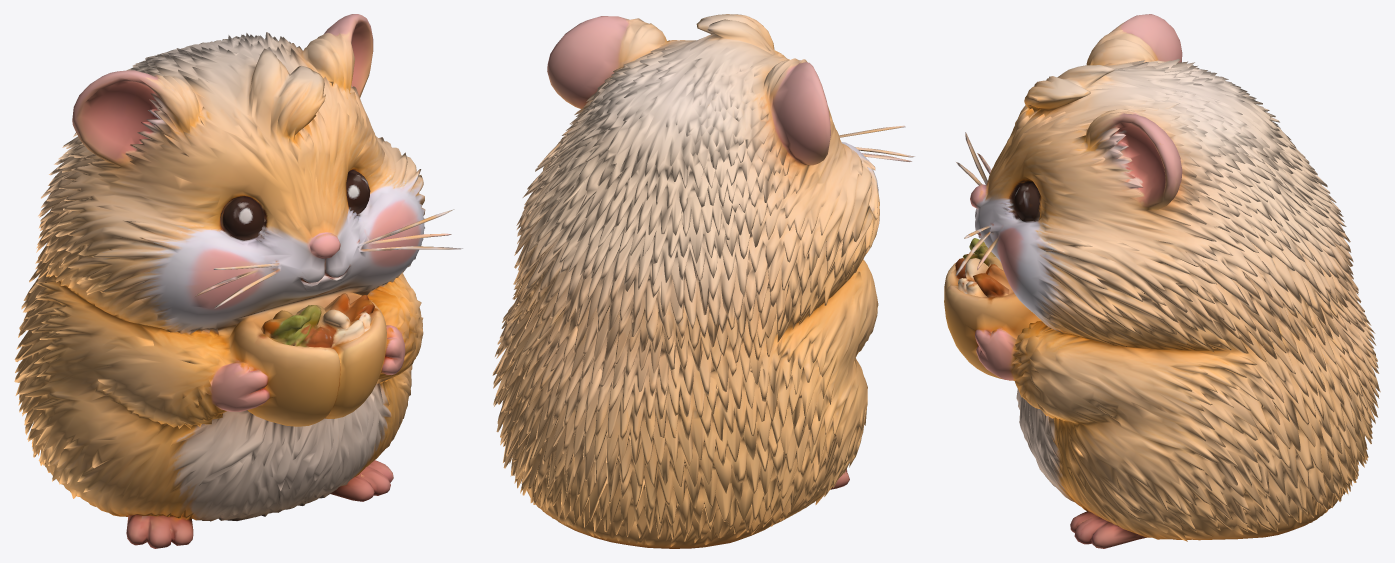
The model's file is mao_tuantuan_final.glb.
3 renders of one model, left to right at view 1: azimuth 30°, elevation 25°; view 2: azimuth 150°, elevation 25°; view 3: azimuth 270°, elevation 25°, orthographic. The views are drawn at different scales.
Parts seen in each view (by area): view 1: node_0; view 2: node_0; view 3: node_0.
Part boxes in pixels (x1,y1,x2,y2): node_0: [14, 14, 462, 548]; node_0: [492, 14, 914, 548]; node_0: [944, 14, 1380, 548].
Size of the model in its own units: 0.7697 by 0.9723 by 0.8985.
Materials: 1 (1 with a texture image).
